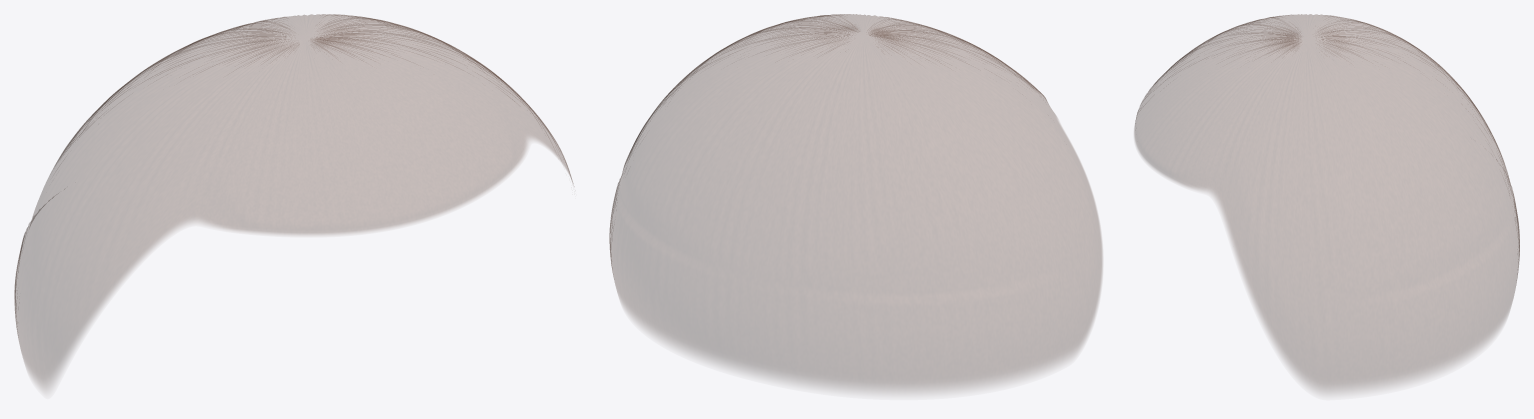
Rendered from Masculine-buzz-beanie252-hair.glb.
The picture shows the model from 3 angles, left to right: view 1: azimuth 30°, elevation 25°; view 2: azimuth 150°, elevation 25°; view 3: azimuth 270°, elevation 25°; orthographic projection. The views are drawn at different scales.
Visible parts, largest first — view 1: 226 hair / Hair252 / buzz edge.001; view 2: 226 hair / Hair252 / buzz edge.001; view 3: 226 hair / Hair252 / buzz edge.001.
Part boxes in pixels (x1,y1,x2,y2): 226 hair / Hair252 / buzz edge.001: (14,14,573,389); 226 hair / Hair252 / buzz edge.001: (609,14,1102,392); 226 hair / Hair252 / buzz edge.001: (1134,14,1519,392).
Bounding box in the file's own units: 0.9886 × 0.5747 × 0.761.
Materials: 1 (1 with a texture image).
